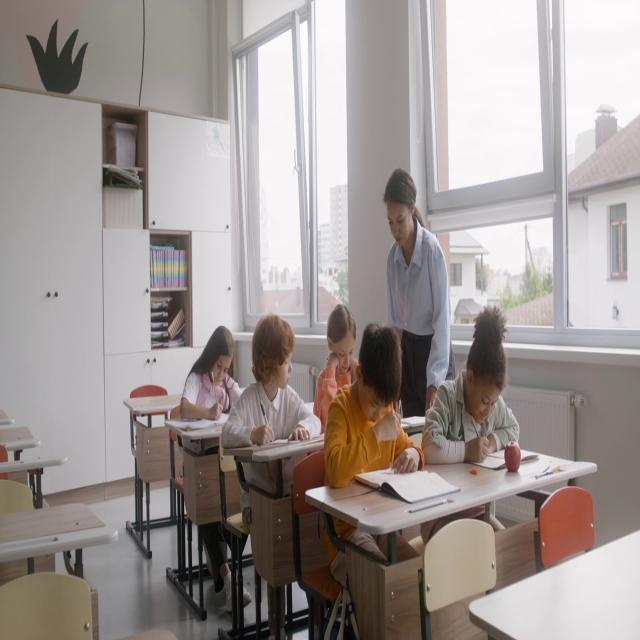reading: (314, 303, 358, 436)
writing: (320, 322, 424, 627), (224, 315, 320, 526), (181, 329, 250, 612), (423, 306, 518, 474)
